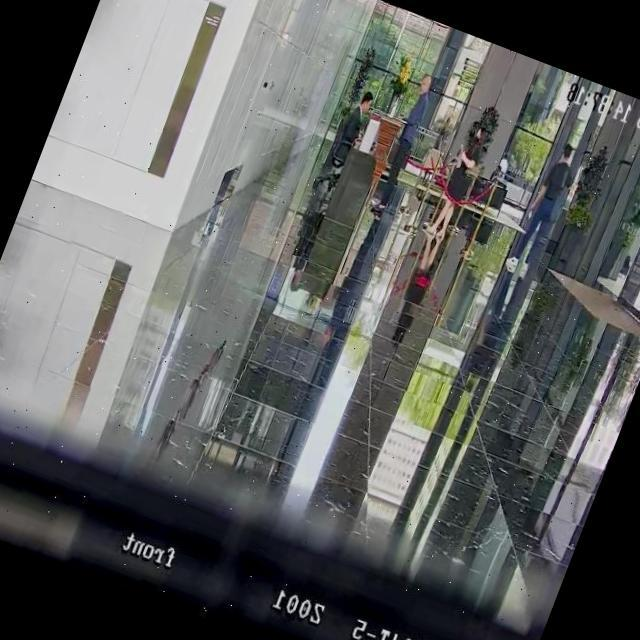person: (414, 119, 498, 272), (502, 140, 584, 284), (370, 70, 440, 216), (322, 85, 378, 176), (434, 115, 454, 152), (496, 152, 514, 178), (488, 164, 503, 186)
